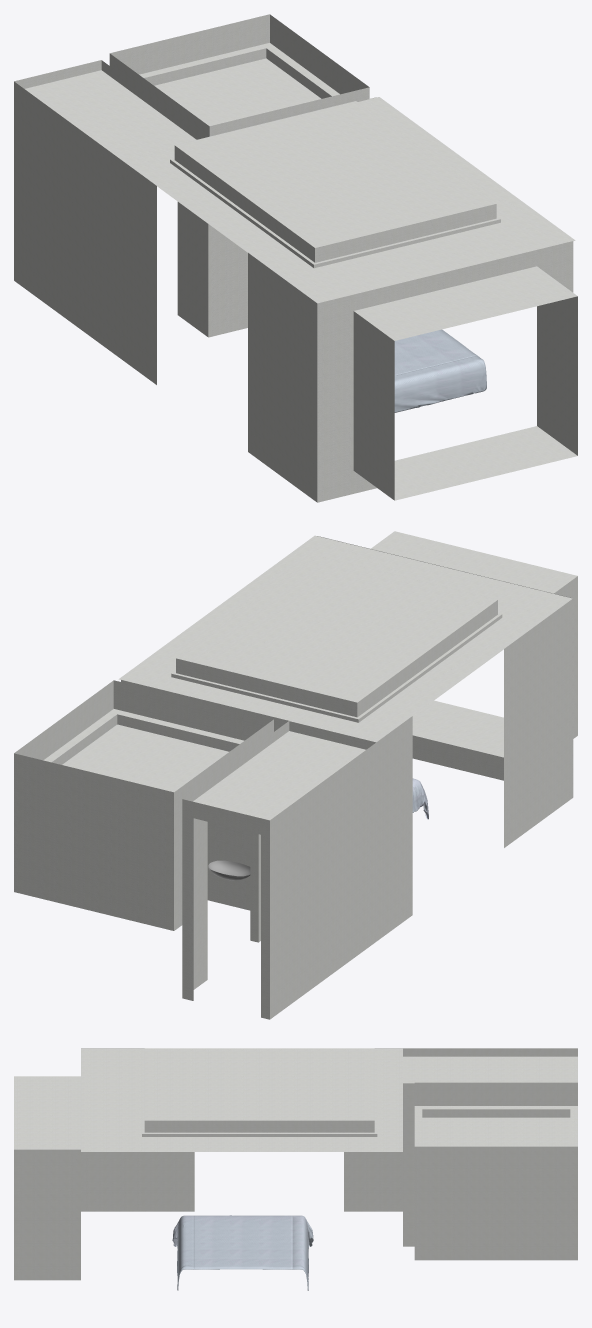
3 views of the same model, one above another, from view 1: azimuth 30°, elevation 25°; view 2: azimuth 150°, elevation 25°; view 3: azimuth 270°, elevation 25° (orthographic). The views are drawn at different scales.
Visible parts, largest first — view 1: Object5959, Object5960, Object5902, Object5957, Object5958, gy001; view 2: Object5959, Object5902, Object5957, Object5960, Object5958, pSphere1; view 3: Object5959, Object5957, Object5960, gy001, Object5902, Object5958.
Part boxes in pixels (x1,y1,x2,y2): Object5959: [25, 70, 575, 303]; Object5960: [248, 241, 577, 502]; Object5902: [14, 60, 376, 384]; Object5957: [109, 14, 369, 137]; Object5958: [139, 43, 339, 126]; gy001: [394, 329, 486, 412]; Object5959: [118, 535, 572, 820]; Object5902: [121, 680, 412, 1019]; Object5957: [14, 680, 273, 930]; Object5960: [317, 531, 577, 847]; Object5958: [43, 709, 244, 792]; pSphere1: [208, 860, 250, 880]; Object5959: [81, 1048, 577, 1151]; Object5957: [414, 1082, 577, 1260]; Object5960: [14, 1048, 194, 1280]; gy001: [172, 1215, 313, 1290]; Object5902: [344, 1048, 577, 1246]; Object5958: [414, 1106, 577, 1146].
Size of the model in its own units: 384 by 886 by 310.
